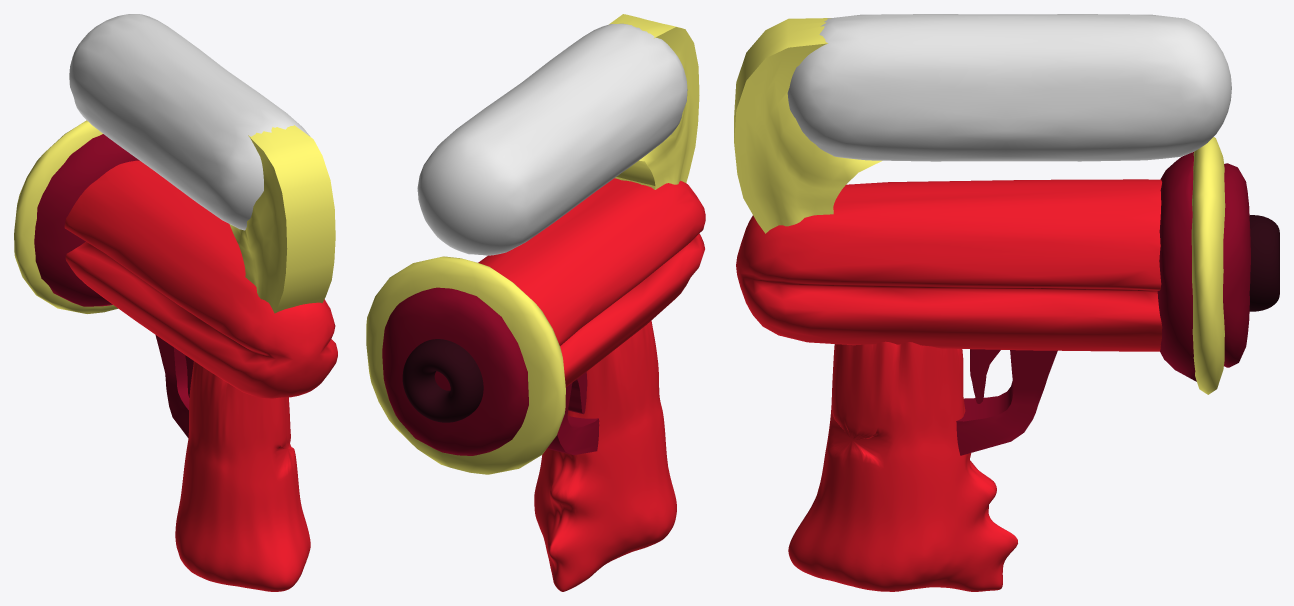
Rendered from Aimer_SINGLE_2.fbx.
3 renders of one model, left to right at view 1: azimuth 30°, elevation 25°; view 2: azimuth 150°, elevation 25°; view 3: azimuth 270°, elevation 25°, orthographic. The views are drawn at different scales.
Parts seen in each view (by area): view 1: InnerLining, Glass, HandleAttachment; view 2: InnerLining, Glass, HandleAttachment; view 3: InnerLining, Glass, HandleAttachment.
Part boxes in pixels (x1,y1,x2,y2): InnerLining: (14,120,337,591); Glass: (69,14,310,230); HandleAttachment: (155,125,335,437); InnerLining: (366,178,705,591); Glass: (417,23,687,255); HandleAttachment: (547,14,699,455); InnerLining: (736,137,1279,591); Glass: (787,14,1231,161); HandleAttachment: (734,18,1057,455).
Bounding box in the file's own units: 17.53 × 42.73 × 36.84.
